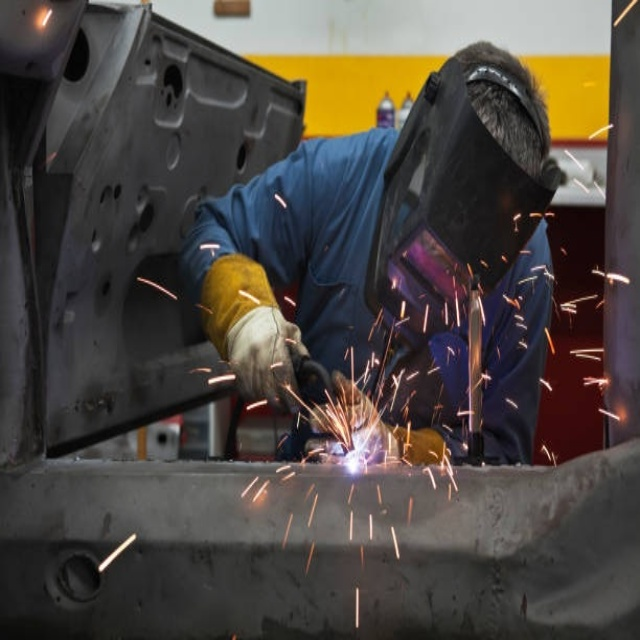Guantes: (200, 248, 310, 411), (304, 364, 447, 467)
